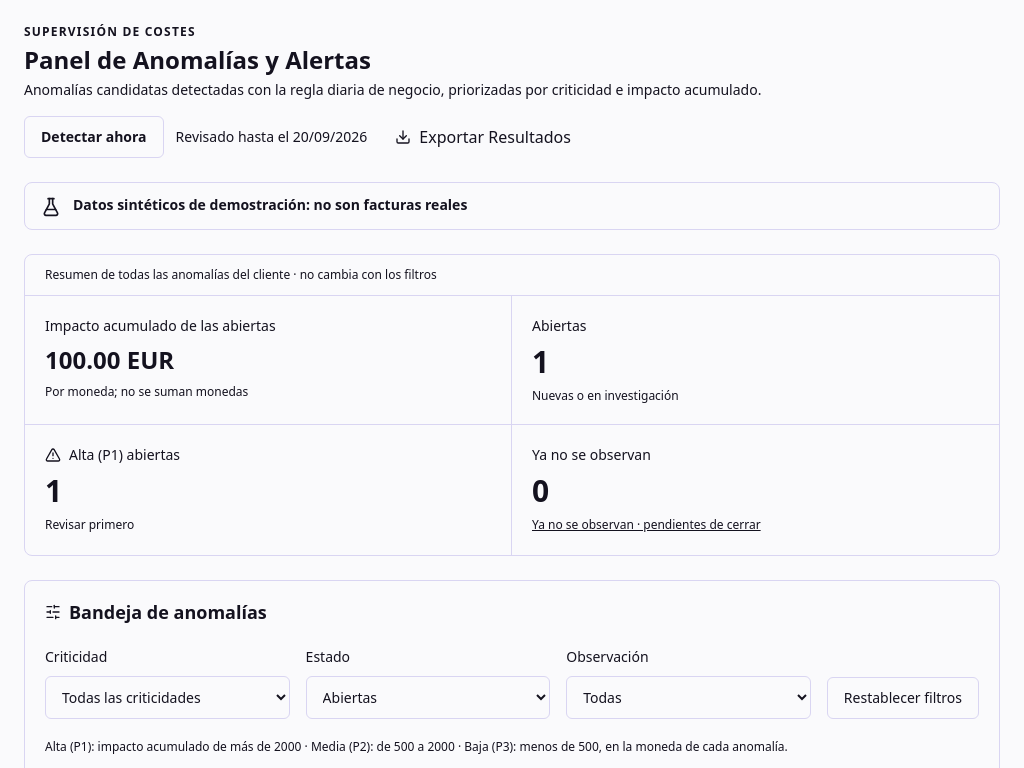
JUP-038 detalle de anomalía: enlace «Explicar en el asistente» › ofrece el enlace con nombre y destino exactos en una anomalía abierta y observada
Step 1. Select "Todos los estados" in the dropdown labelled "Estado" → (428,697), box x1=306 y1=676 x2=550 y2=718
(page scrolled)
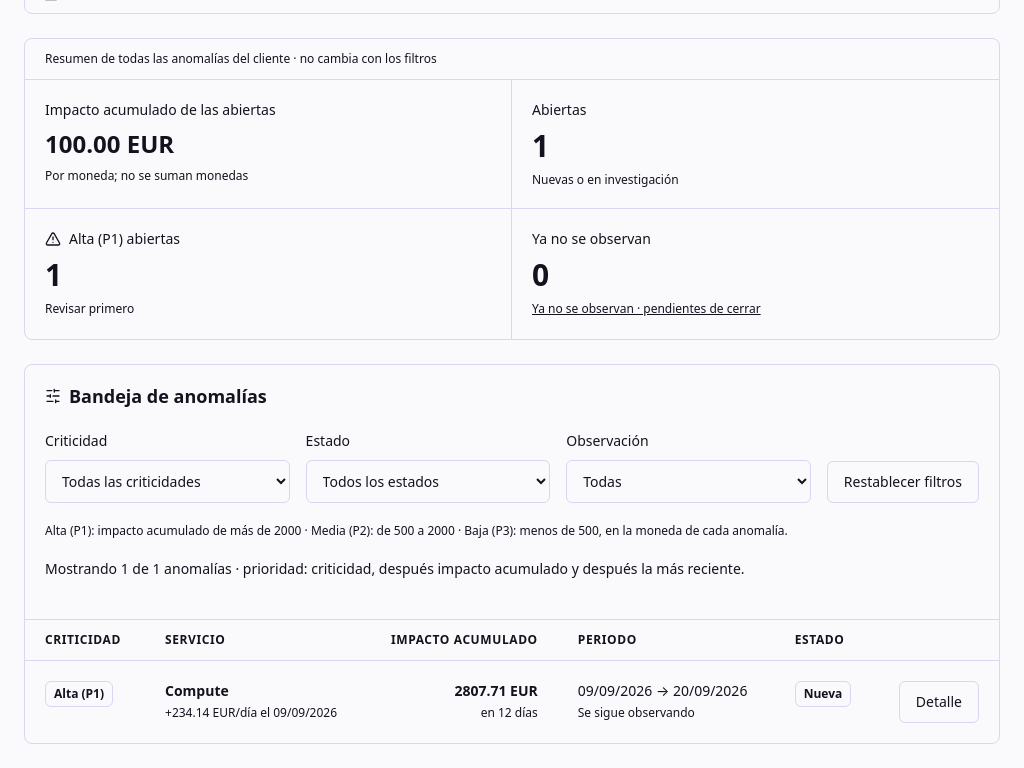
Expected: the element named "Lista de anomalías" is shown, x1=25 y1=620 x2=999 y2=742
Step 2. Click the button with aria-label "Detalle de Compute" → (939,702), box x1=899 y1=680 x2=979 y2=722
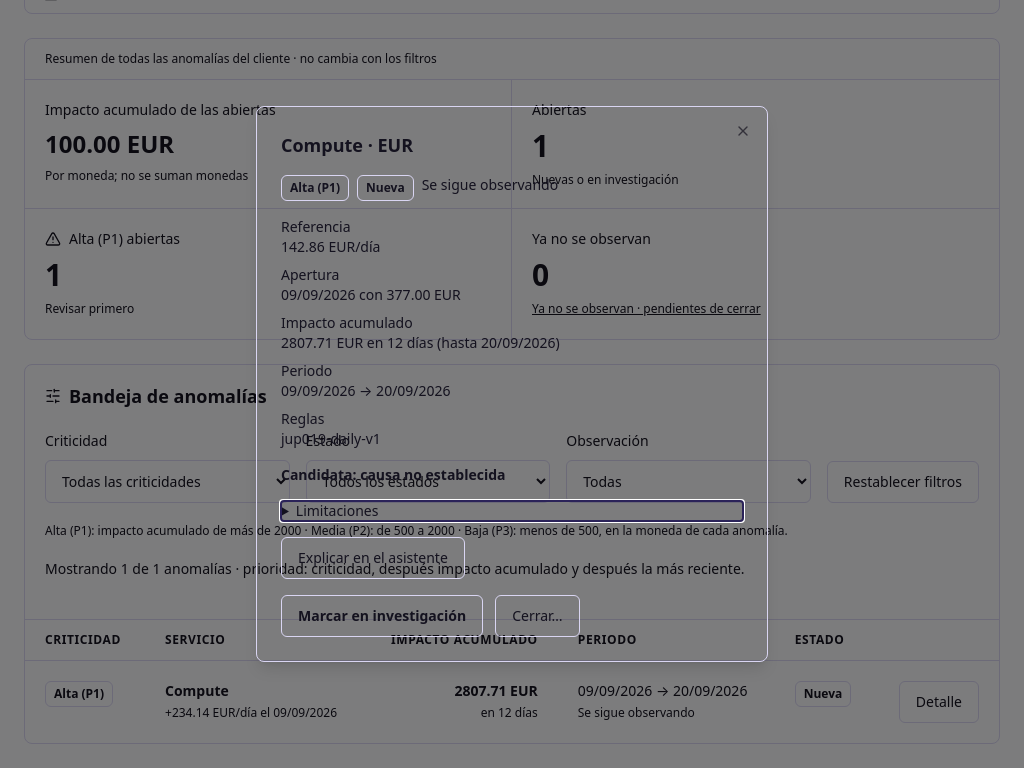
Now the dialog shows "Compute", box x1=281 y1=133 x2=363 y2=157
